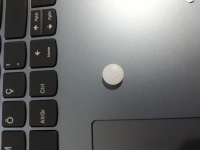Parol: (101, 63, 125, 87)
